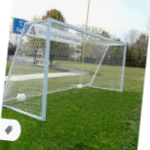goals: (7, 17, 128, 119)
